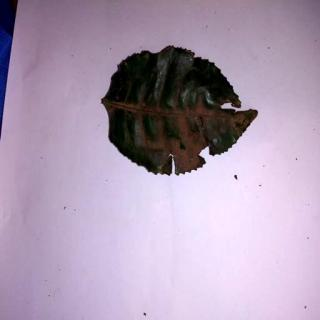Anthracnose: (103, 46, 259, 179)
